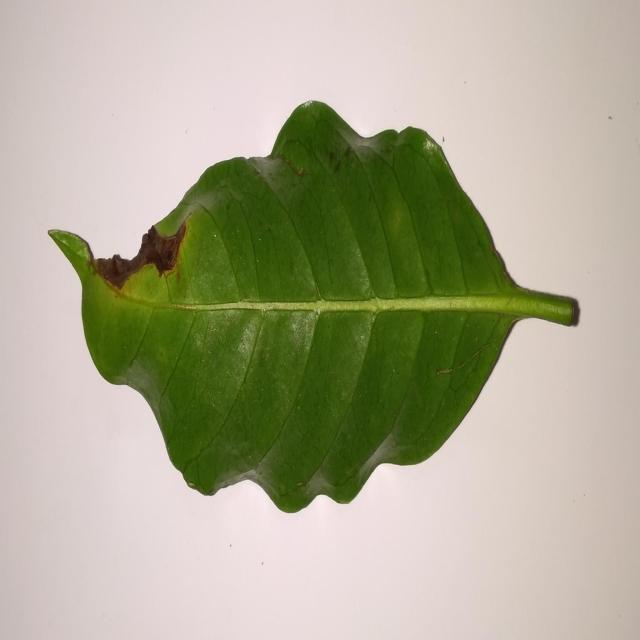Enfermedad-Antracnosis: (47, 101, 581, 517)
